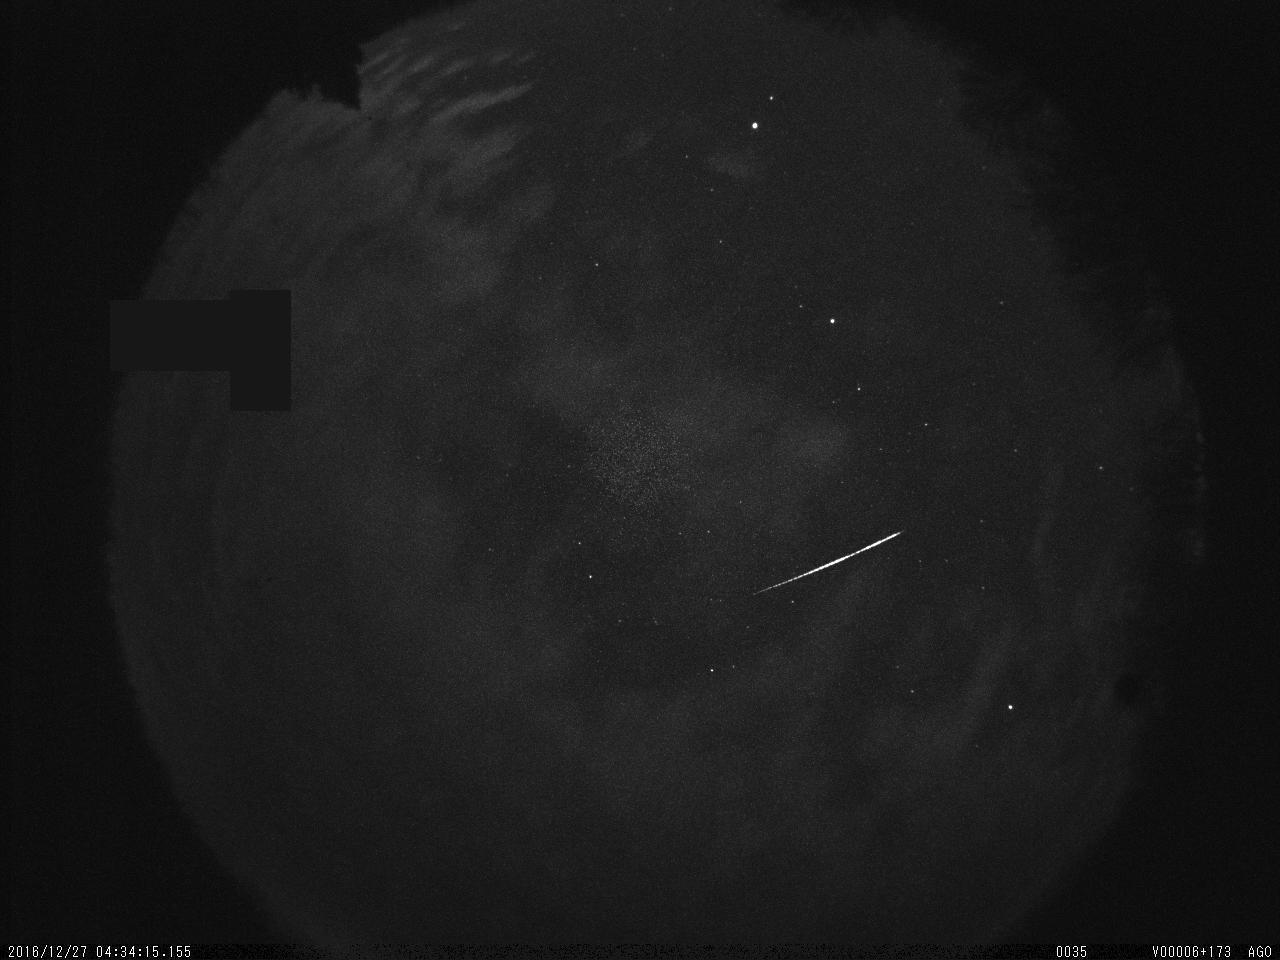Meteor: (750, 524, 912, 603)
